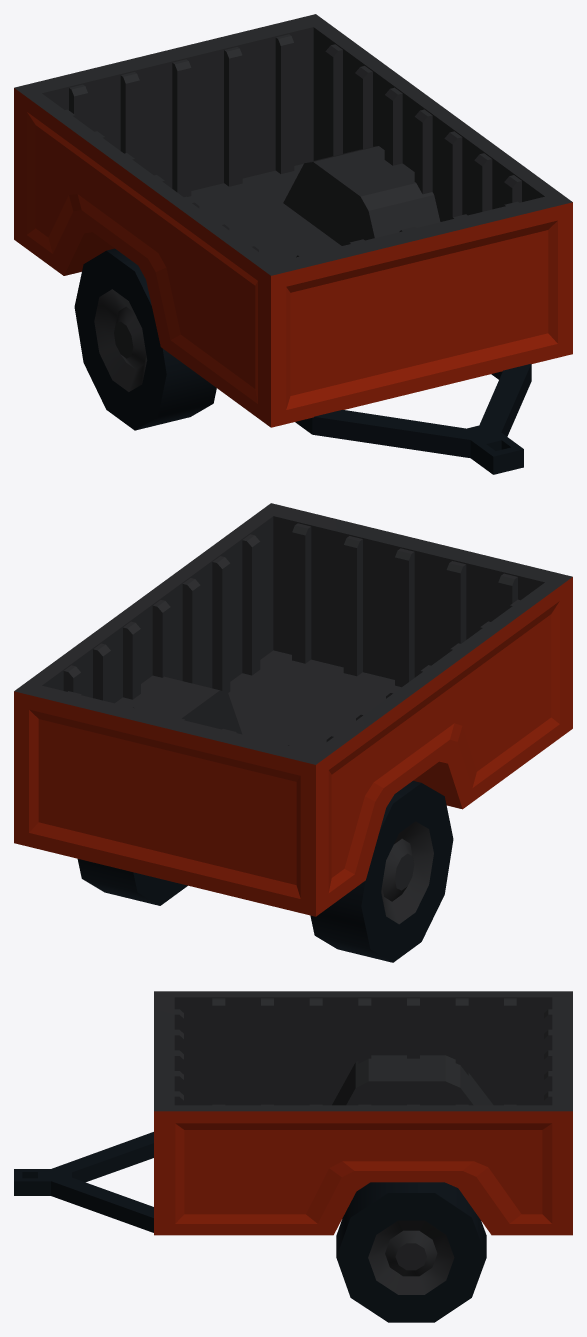
File: Trailer_4_4.fbx
3 views of the same model, one above another, from view 1: azimuth 30°, elevation 25°; view 2: azimuth 150°, elevation 25°; view 3: azimuth 270°, elevation 25° (orthographic). The views are drawn at different scales.
Parts seen in each view (by area): view 1: Trailer_4_4; view 2: Trailer_4_4; view 3: Trailer_4_4.
Boxes of the visible parts, x1=… form: Trailer_4_4: x1=14, y1=14, x2=572, y2=474; Trailer_4_4: x1=14, y1=503, x2=572, y2=962; Trailer_4_4: x1=14, y1=991, x2=572, y2=1322.
Size of the model in its own units: 56.25 by 46.62 by 111.
